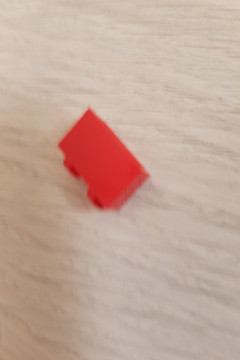1x2 red: (58, 104, 150, 214)
